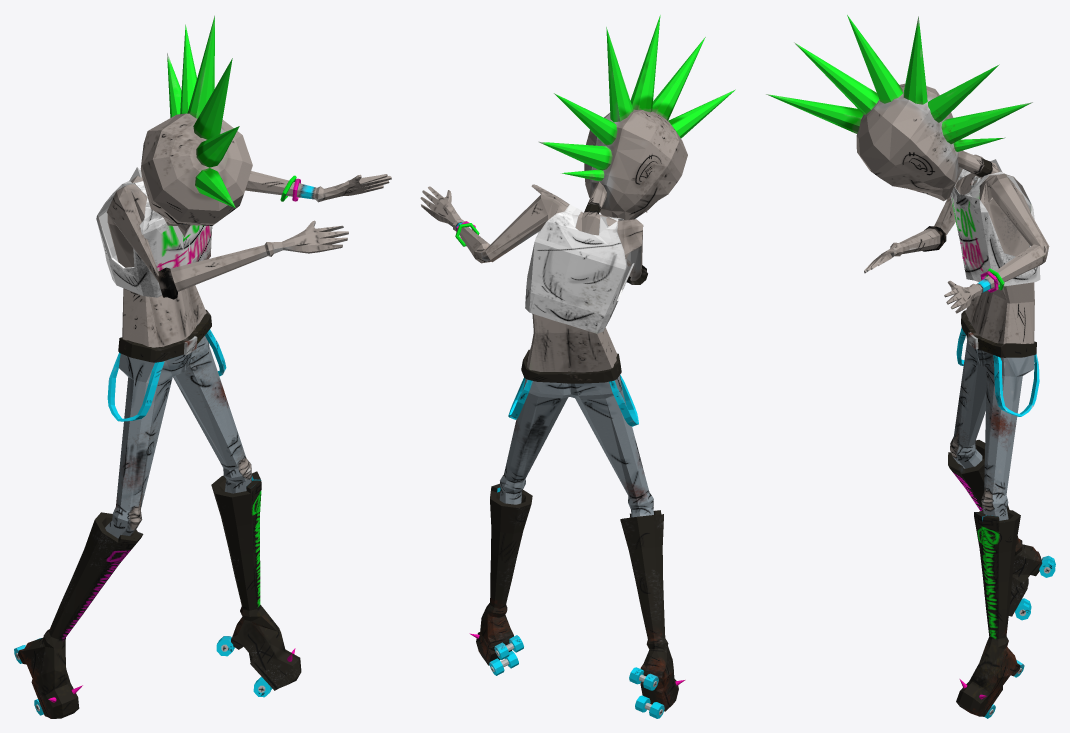
Rendered from punkAnimation_000041.obj.
3 views of the same model, side by side, from view 1: azimuth 30°, elevation 25°; view 2: azimuth 150°, elevation 25°; view 3: azimuth 270°, elevation 25° (orthographic). The views are drawn at different scales.
Visible parts, largest first — view 1: Cube.004_Cube.003; view 2: Cube.004_Cube.003; view 3: Cube.004_Cube.003.
Boxes of the visible parts, bbox=[...] form: Cube.004_Cube.003: bbox=[14, 15, 391, 718]; Cube.004_Cube.003: bbox=[420, 15, 735, 718]; Cube.004_Cube.003: bbox=[766, 15, 1055, 718].
Size of the model in its own units: 3.38 by 7.29 by 2.89.
